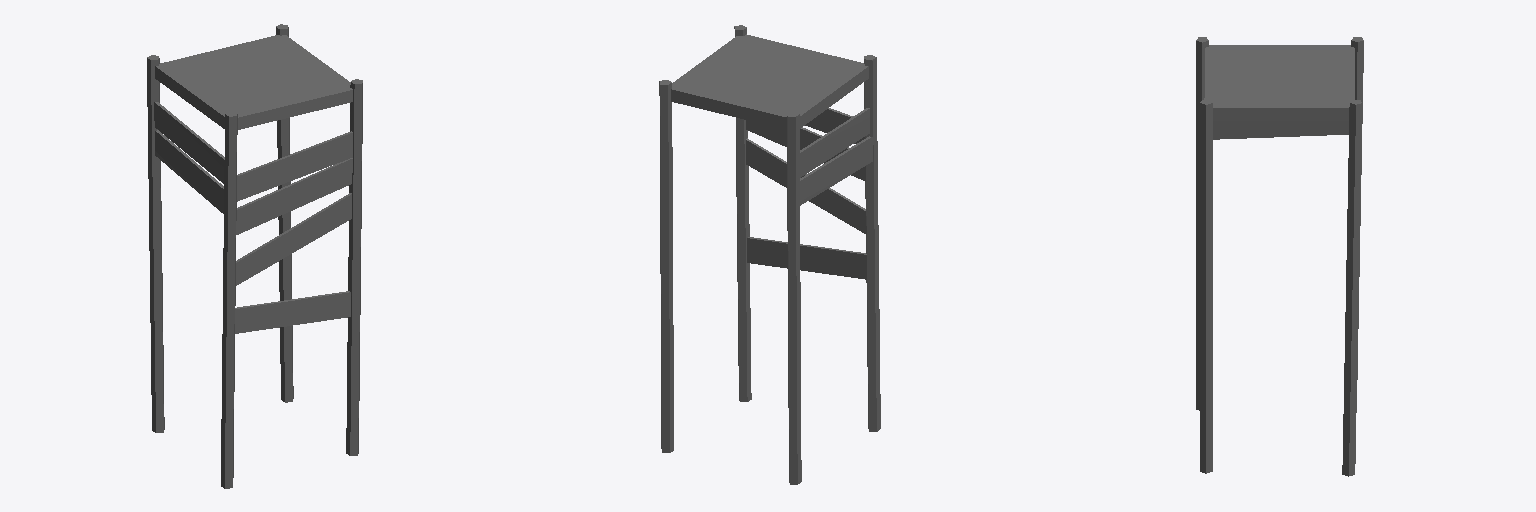
Rendered from plateforme02.obj.
3 renders of one model, left to right at view 1: azimuth 30°, elevation 25°; view 2: azimuth 150°, elevation 25°; view 3: azimuth 270°, elevation 25°, orthographic.
Bounding box in the file's own units: 1.22 × 3 × 1.23.